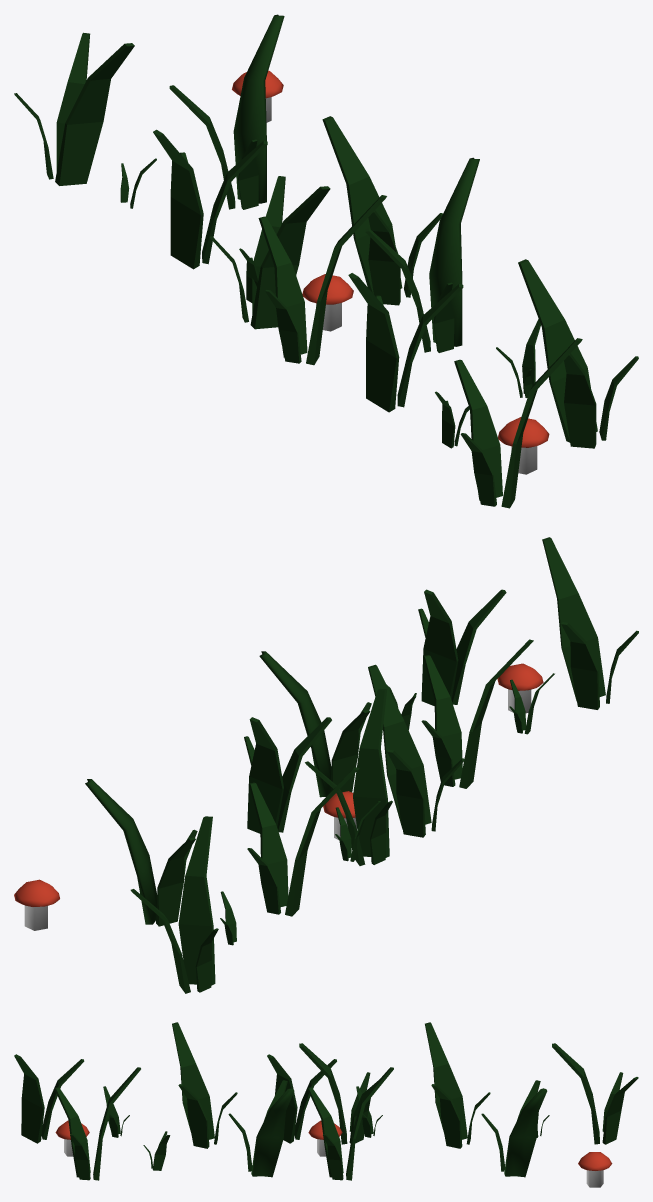
Rendered from pasto_2.fbx.
3 views of the same model, one above another, from view 1: azimuth 30°, elevation 25°; view 2: azimuth 150°, elevation 25°; view 3: azimuth 270°, elevation 25° (orthographic). The views are drawn at different scales.
Visible parts, largest first — view 1: hongos2; view 2: hongos2; view 3: hongos2.
Boxes of the visible parts, x1,y1,x2,y2 form: hongos2: [14, 14, 638, 508]; hongos2: [14, 537, 638, 993]; hongos2: [14, 1022, 638, 1187].
Size of the model in its own units: 95.97 by 57 by 311.
